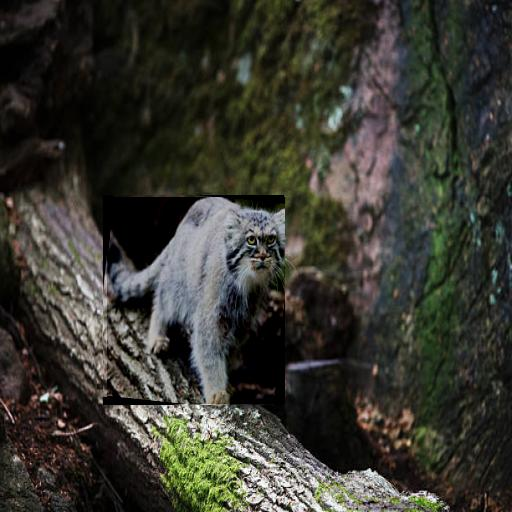manul: (107, 197, 284, 404)
